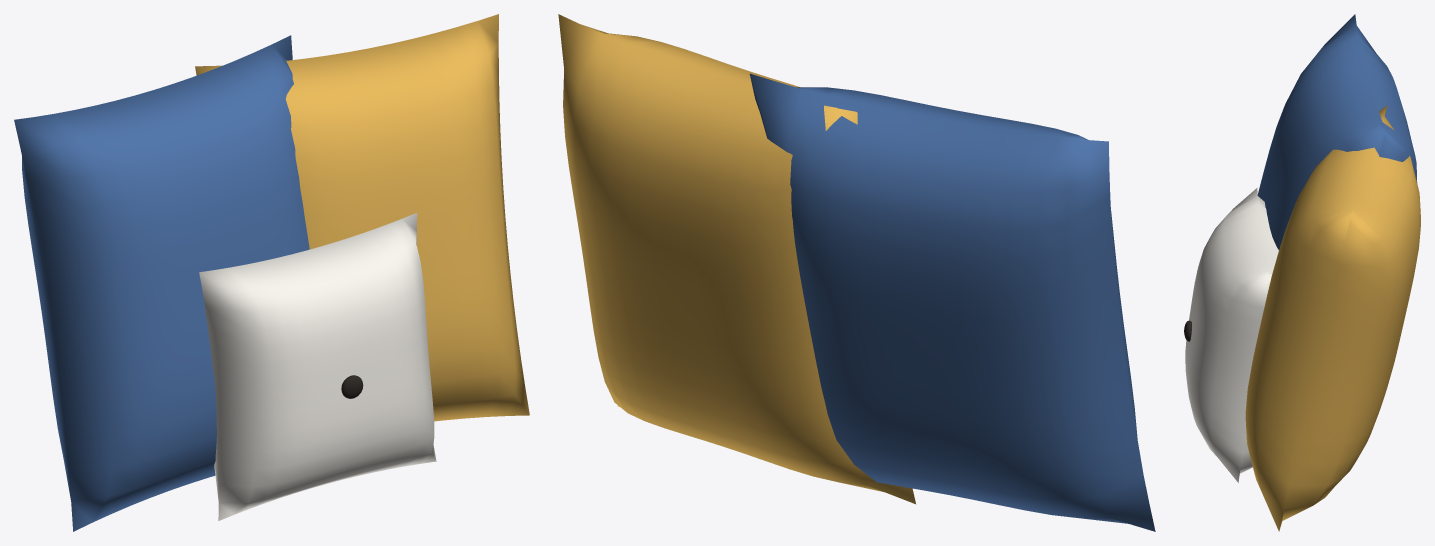
Rendered from hh_cat_cushion_set.glb.
3 renders of one model, left to right at view 1: azimuth 30°, elevation 25°; view 2: azimuth 150°, elevation 25°; view 3: azimuth 270°, elevation 25°, orthographic. The views are drawn at different scales.
Parts seen in each view (by area): view 1: cushion, cushion.001, cushion.002; view 2: cushion, cushion.001; view 3: cushion.001, cushion.002, cushion.
Part boxes in pixels (box(x1,y1,x2,y2)): cushion: box(14, 35, 309, 531); cushion.001: box(195, 14, 529, 421); cushion.002: box(199, 213, 436, 520); cushion: box(749, 73, 1155, 531); cushion.001: box(558, 14, 915, 504); cushion.001: box(1245, 105, 1420, 531); cushion.002: box(1185, 188, 1278, 482); cushion: box(1257, 14, 1417, 249).
Size of the model in its own units: 0.4 by 0.3 by 0.2.
